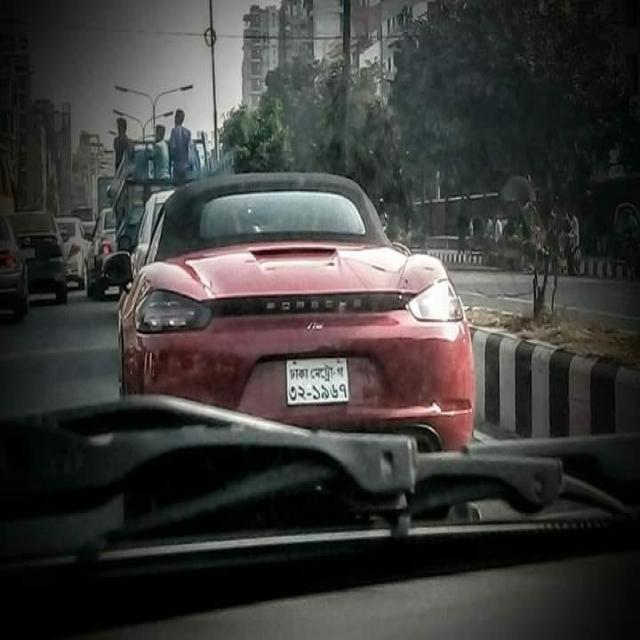numberplate: (284, 356, 350, 406)
